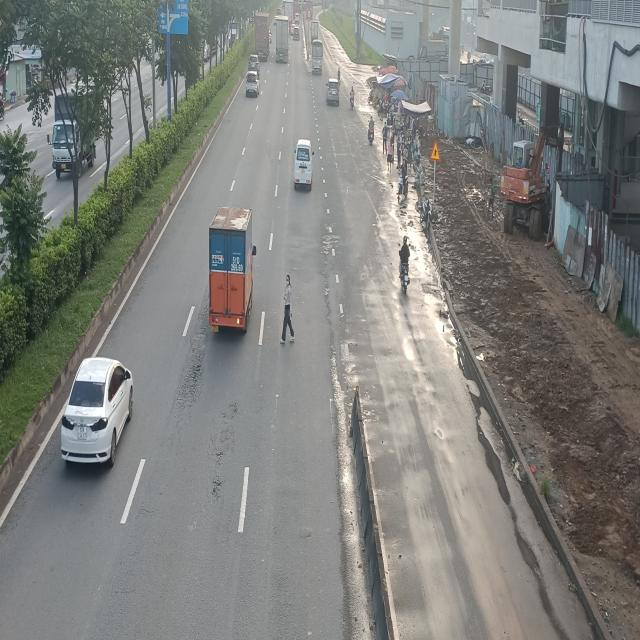car: (60, 357, 133, 471), (327, 77, 342, 104)
container: (254, 11, 270, 61), (275, 14, 288, 65)
truck: (206, 209, 257, 337), (311, 40, 324, 75)
van: (292, 138, 314, 192)
